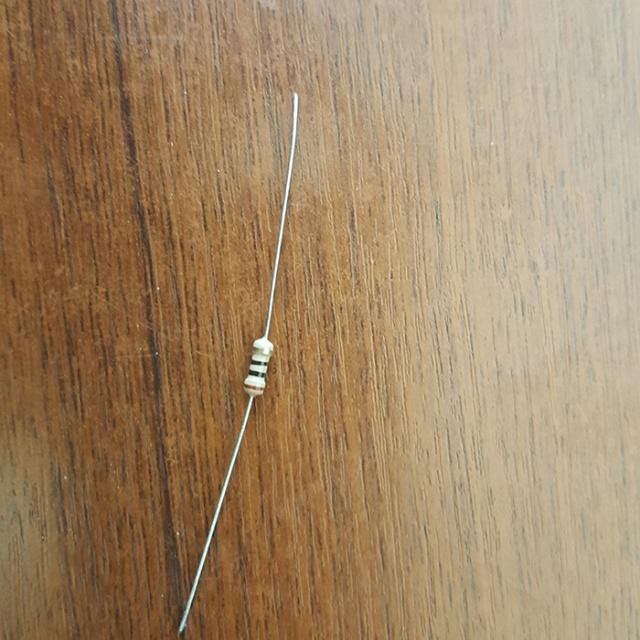black: (251, 360, 268, 366), (249, 370, 264, 376)
brown: (244, 384, 264, 391)
gold: (254, 347, 272, 355)
resistor: (230, 330, 285, 405)
